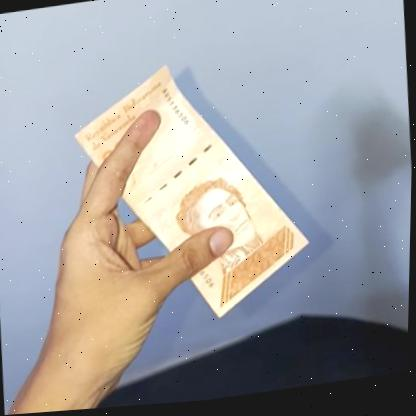twenty-front-vef: (66, 50, 317, 341)
